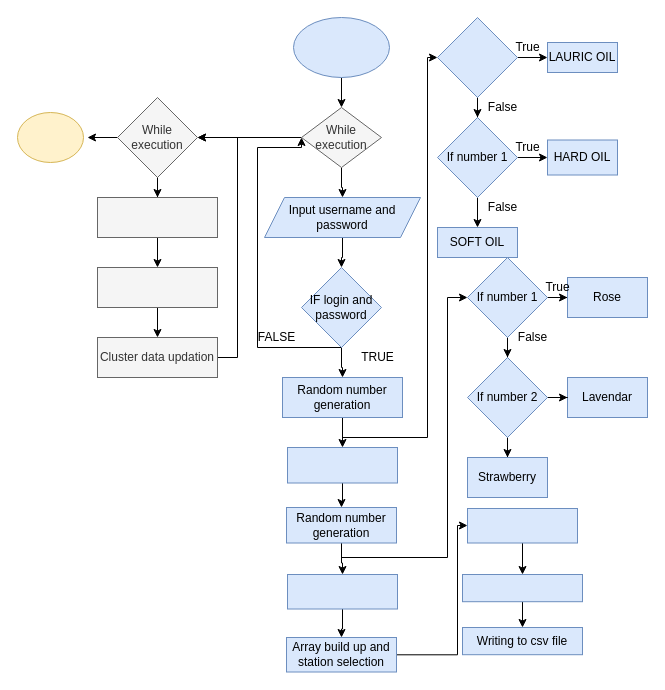
The diagram is 665 pixels wide and 690 high, and some of its shapes have lost their labels. The centre of each missing label's shape, as x and y in pixels:
"CSTR operation" belongs at point 342,464.
"END" belongs at point 50,137.
"Get raw material data from online" belongs at point 157,287.
"If number 0" belongs at point 477,57.
"Maintain temperature" belongs at point 157,217.
"Mixing and other process simulation" belongs at point 342,591.
"START" belongs at point 341,47.
"Temporary variable initialization" belongs at point 522,525.
"Variable reset" belongs at point 522,588.
